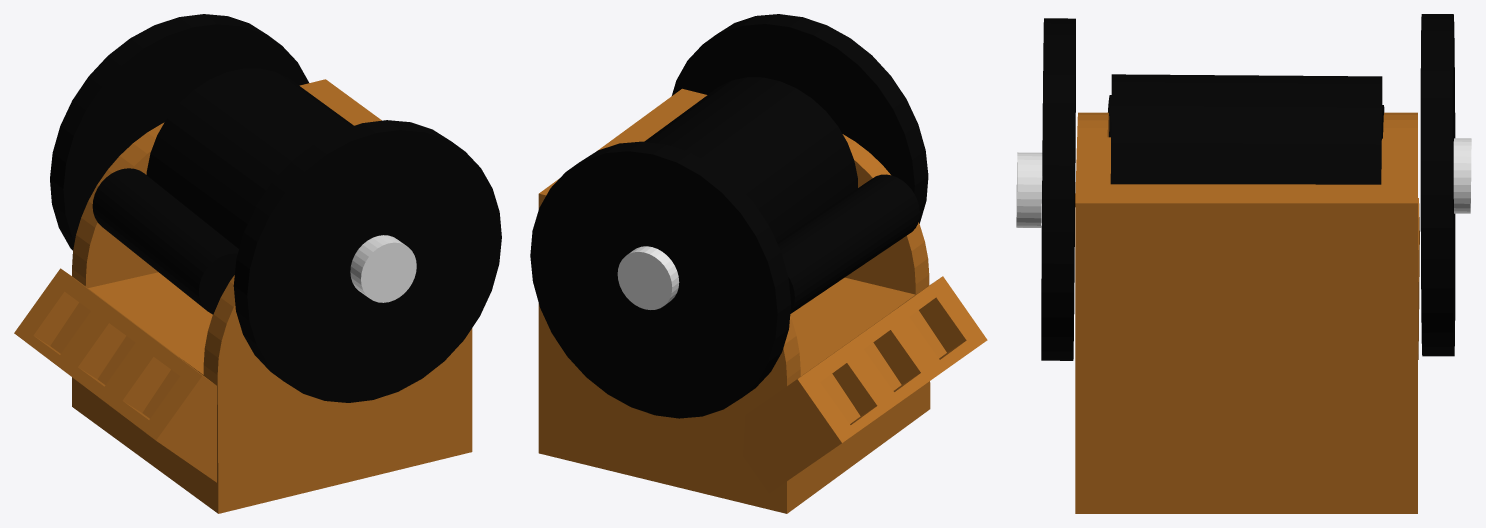
The model's file is electric ore crusher.glb.
3 renders of one model, left to right at view 1: azimuth 30°, elevation 25°; view 2: azimuth 150°, elevation 25°; view 3: azimuth 270°, elevation 25°, orthographic. The views are drawn at different scales.
Parts seen in each view (by area): view 1: 円柱.004, 立方体, 円柱.002, 円柱, 立方体.001, 円柱.001, 円柱.006; view 2: 円柱.002, 立方体, 立方体.001, 円柱, 円柱.004, 円柱.001, 円柱.005; view 3: 立方体, 円柱, 円柱.002, 円柱.004, 円柱.006, 円柱.005.
Boxes of the visible parts, x1=… form: 円柱.004: x1=233, y1=120, x2=501, y2=402; 立方体: x1=72, y1=79, x2=472, y2=513; 円柱.002: x1=50, y1=14, x2=308, y2=250; 円柱: x1=146, y1=68, x2=353, y2=248; 立方体.001: x1=14, y1=268, x2=216, y2=482; 円柱.001: x1=92, y1=168, x2=238, y2=314; 円柱.006: x1=350, y1=235, x2=416, y2=302; 円柱.002: x1=530, y1=141, x2=791, y2=418; 立方体: x1=538, y1=88, x2=930, y2=513; 立方体.001: x1=743, y1=276, x2=987, y2=493; 円柱: x1=644, y1=77, x2=857, y2=242; 円柱.004: x1=672, y1=14, x2=928, y2=223; 円柱.001: x1=777, y1=174, x2=919, y2=313; 円柱.005: x1=617, y1=246, x2=679, y2=309; 立方体: x1=1075, y1=112, x2=1417, y2=513; 円柱: x1=1110, y1=74, x2=1382, y2=184; 円柱.002: x1=1420, y1=14, x2=1455, y2=356; 円柱.004: x1=1041, y1=18, x2=1075, y2=360; 円柱.006: x1=1016, y1=152, x2=1042, y2=227; 円柱.005: x1=1453, y1=138, x2=1471, y2=213.
Bounding box in the file's own units: 2.6 × 2.68 × 2.65.
